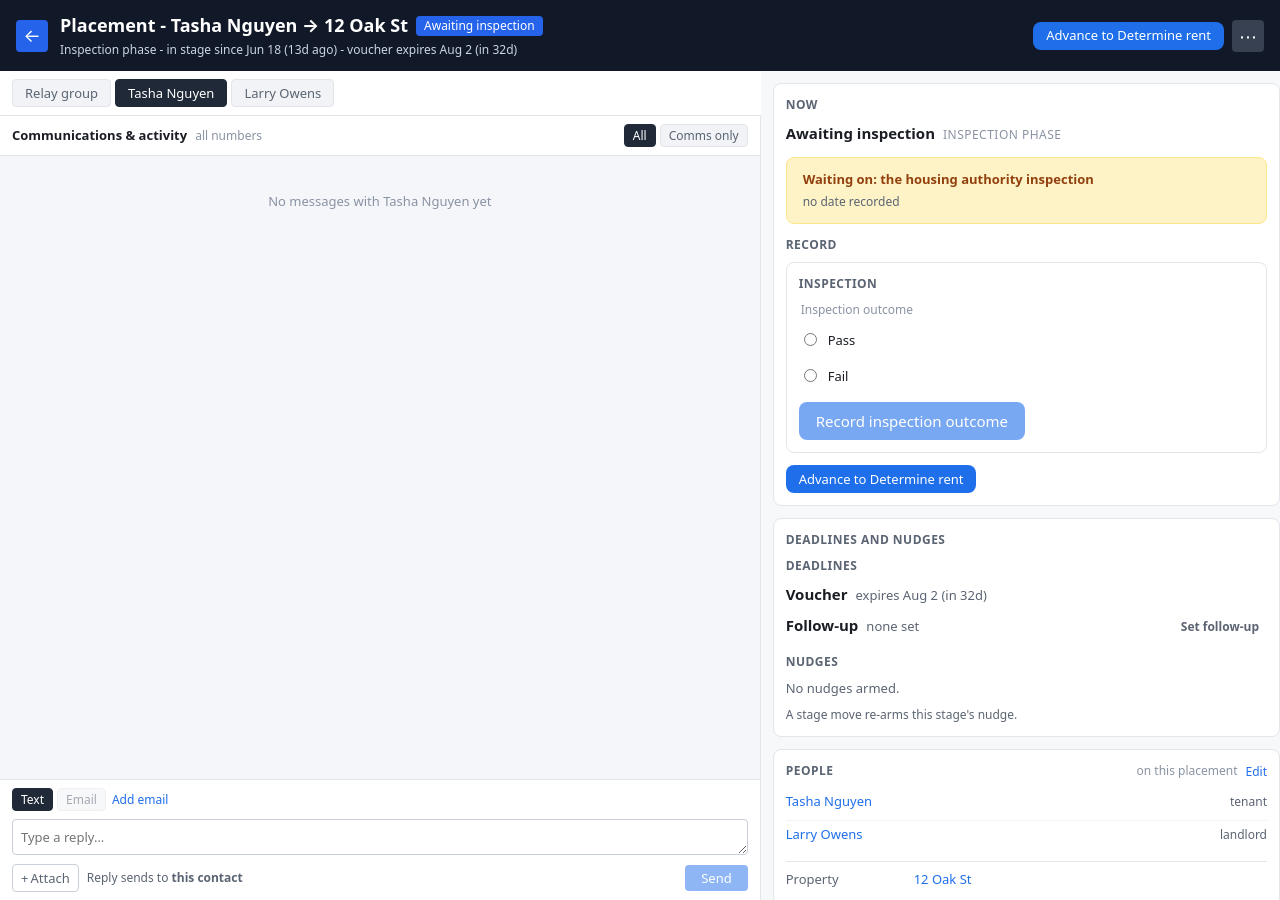
Test: PlacementDetail - header › the kebab exposes Move to... + Set follow-up + Open relay group + Mark lost
Expected: the link named "Back to placements" is shown, [16,20,48,52]
Click the button named "More actions" at point(1248, 36), box [1232,20,1264,52]
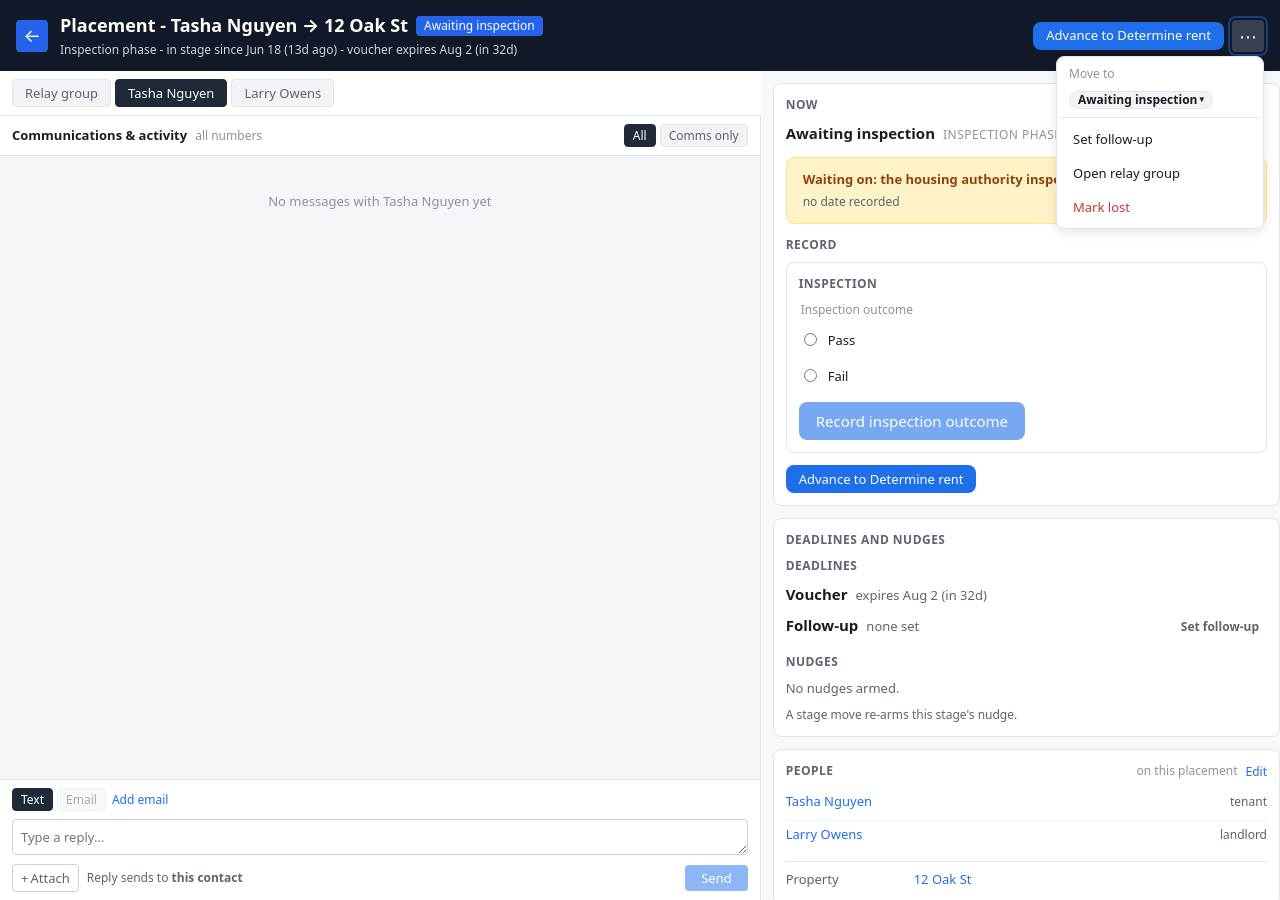
Expected: the button with aria-label "Placement stage" is shown, [1069,90,1213,109]
Expected: the menu item "Set follow-up" is shown, [1061,122,1259,156]
Expected: the menu item "Open relay group" is shown, [1061,156,1259,190]
